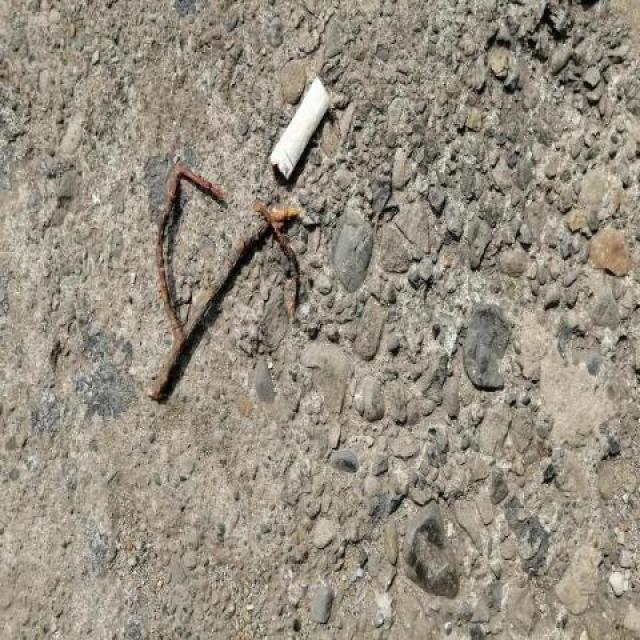non-organic waste: (267, 72, 334, 189)
